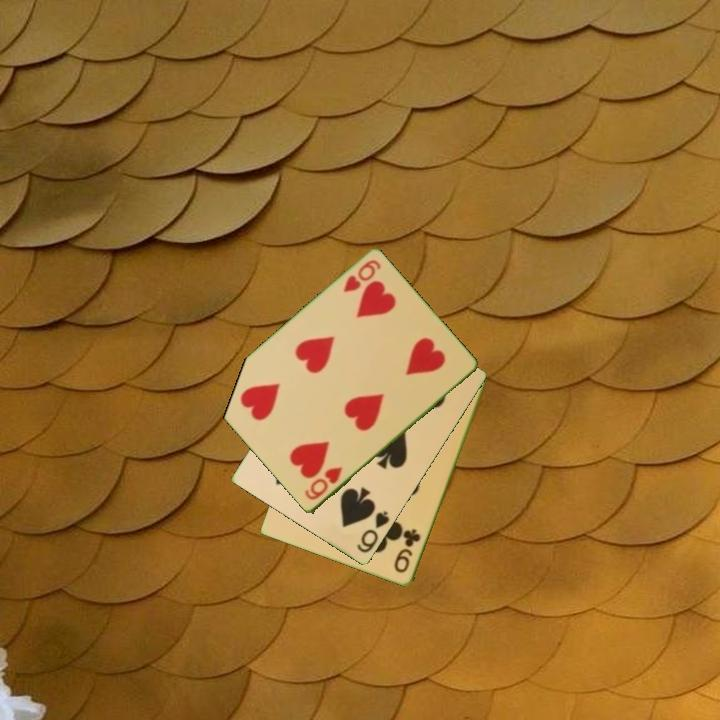6h: (301, 463, 346, 503), (340, 256, 384, 296)
6s: (354, 508, 393, 556)
9c: (391, 525, 424, 576)
